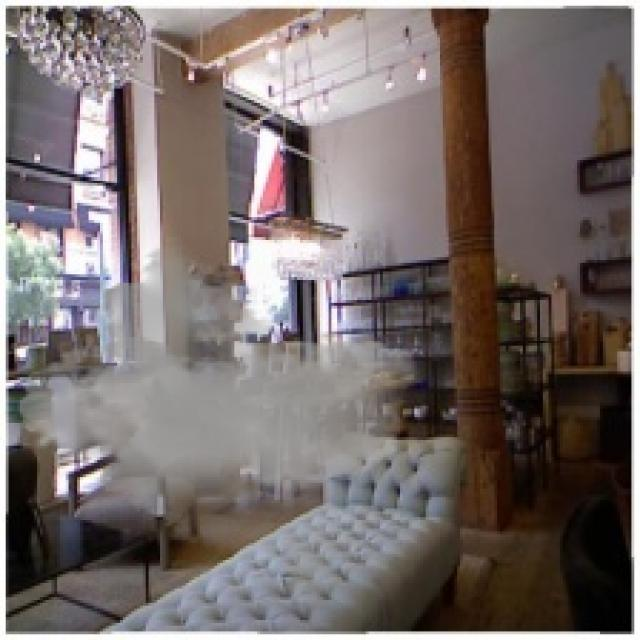smoke: (17, 234, 420, 609)
